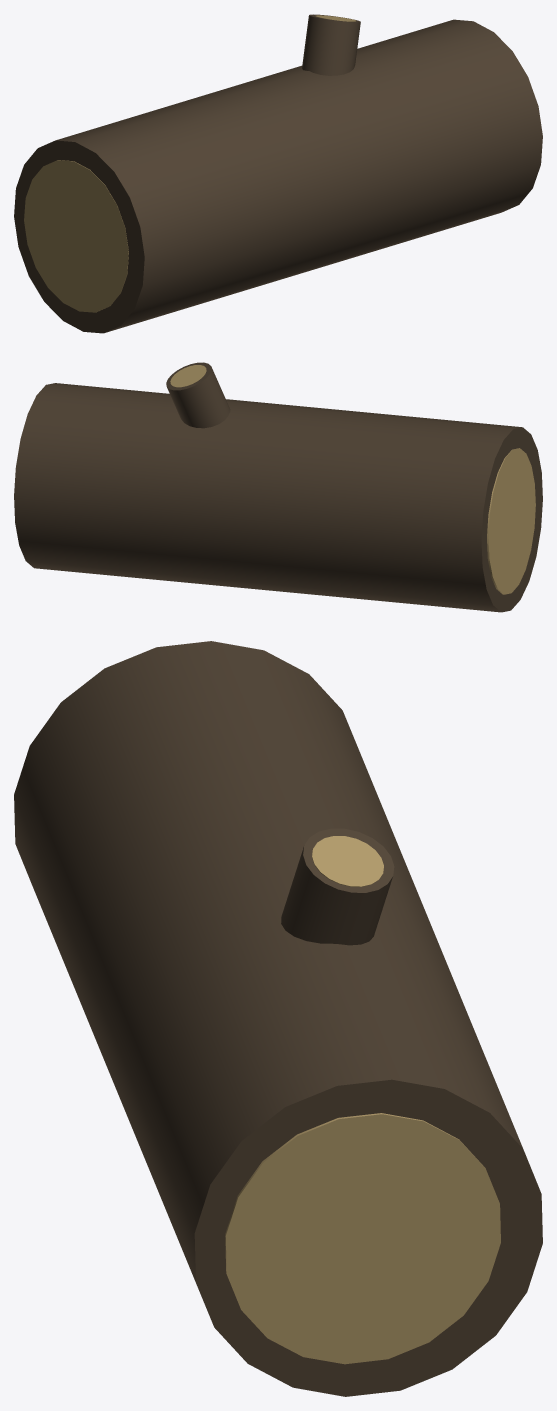
File: Log1,0.fbx
The picture shows the model from 3 angles, top to bottom: view 1: azimuth 30°, elevation 25°; view 2: azimuth 150°, elevation 25°; view 3: azimuth 270°, elevation 25°; orthographic projection. The views are drawn at different scales.
Visible parts, largest first — view 1: pPipe1, pasted__pCylinder1, pasted__pPipe1; view 2: pPipe1, pasted__pCylinder1, pasted__pPipe1, pasted__pasted__pCylinder1; view 3: pPipe1, pasted__pCylinder1, pasted__pPipe1, pasted__pasted__pCylinder1.
Boxes of the visible parts, x1,y1,x2,y2 form: pPipe1: (14, 19, 542, 333); pasted__pCylinder1: (24, 160, 128, 312); pasted__pPipe1: (302, 14, 360, 75); pPipe1: (14, 383, 542, 612); pasted__pCylinder1: (487, 448, 535, 594); pasted__pPipe1: (166, 362, 230, 428); pasted__pasted__pCylinder1: (170, 365, 206, 387); pPipe1: (14, 641, 542, 1396); pasted__pCylinder1: (225, 1113, 500, 1364); pasted__pPipe1: (281, 828, 394, 945); pasted__pasted__pCylinder1: (312, 836, 383, 886).
Size of the model in its own units: 6.76 by 3.16 by 3.57.
